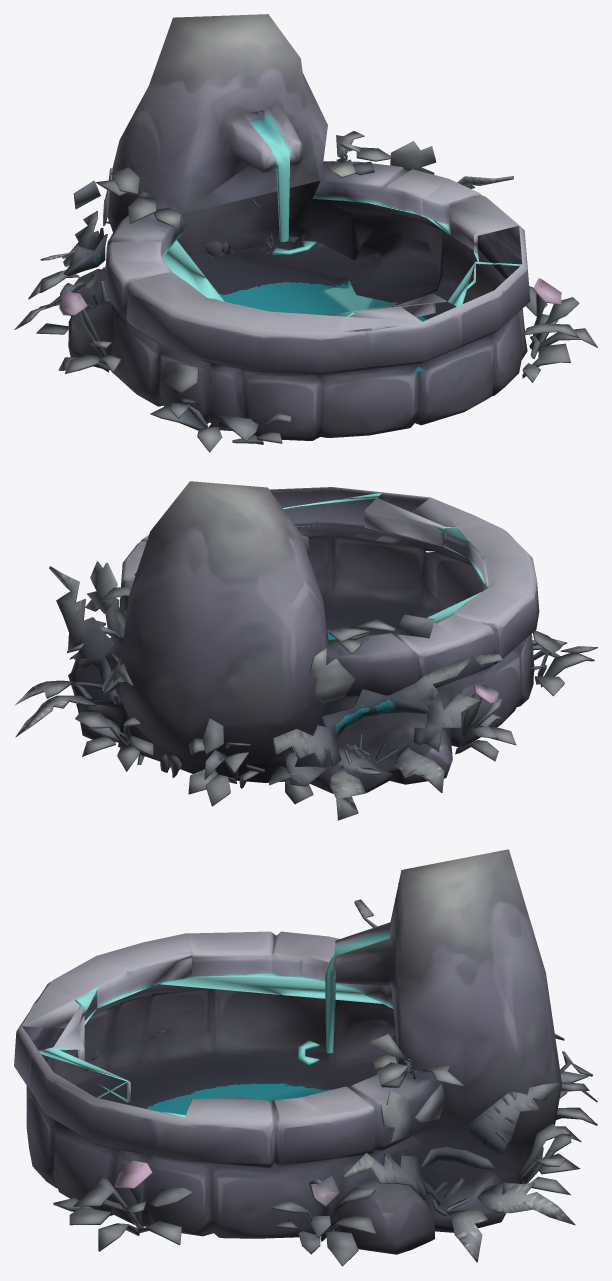
3 renders of one model, top to bottom at view 1: azimuth 30°, elevation 25°; view 2: azimuth 150°, elevation 25°; view 3: azimuth 270°, elevation 25°, orthographic. The views are drawn at different scales.
Visible parts, largest first — view 1: spring-tower; view 2: spring-tower; view 3: spring-tower.
Boxes of the visible parts, x1,y1,x2,y2 form: spring-tower: (14, 14, 597, 452); spring-tower: (14, 481, 597, 820); spring-tower: (14, 849, 597, 1266).
Size of the model in its own units: 0.998 by 0.5499 by 0.9883.
1 material, 1 textured.
